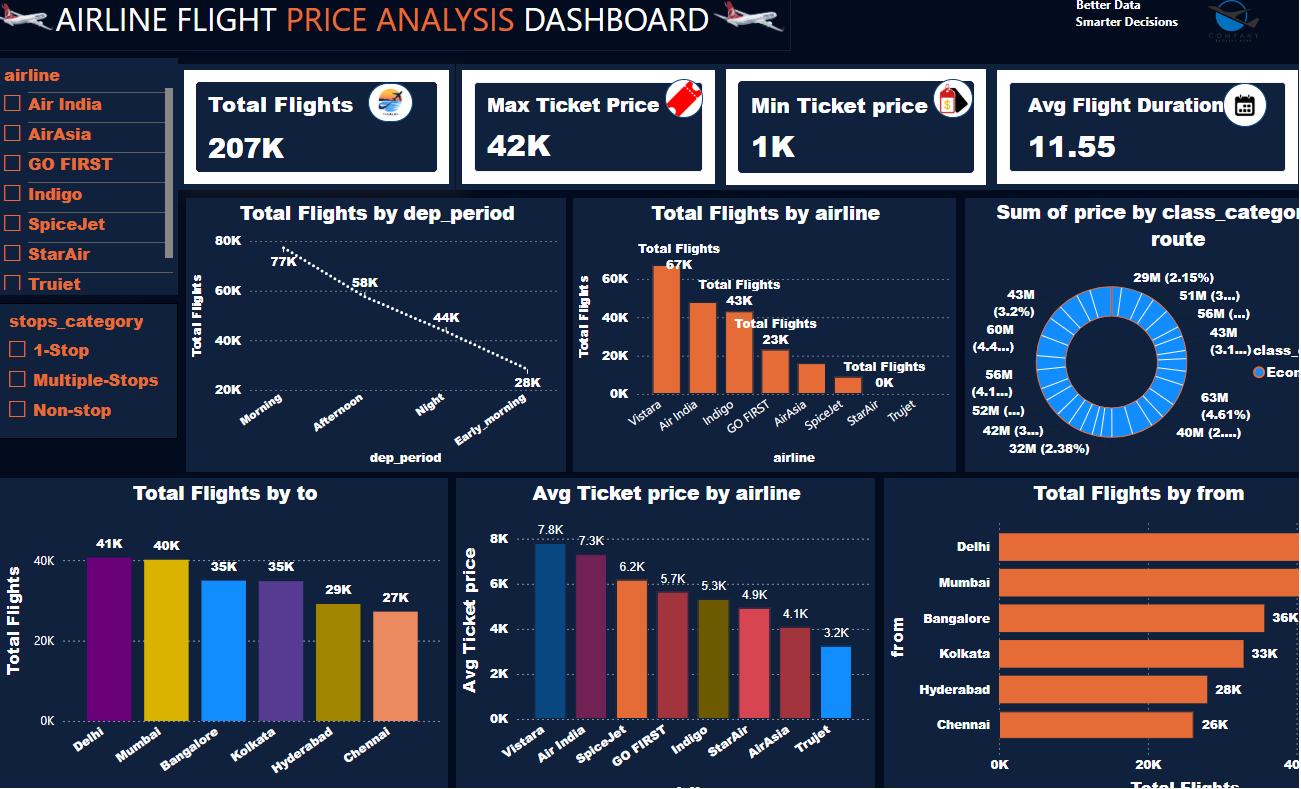

What the dashboard file says about the page in this screenshot:
{"tool":"powerbi","page":{"name":"Page 1","canvas":[1400,820],"ordinal":0},"visuals":[{"type":"textbox","box":[0,0,800,61.5],"z":0},{"type":"cardVisual","fields":{"Data":["Flight_Price.Total Flights"]},"box":[187,74,277,126],"z":1000},{"type":"cardVisual","fields":{"Data":["Flight_Price.Max Ticket Price"]},"box":[465,74,265,126],"z":2000},{"type":"cardVisual","fields":{"Data":["Flight_Price.Min Ticket price"]},"box":[730,74,270,126],"z":3000},{"type":"cardVisual","fields":{"Data":["Flight_Price.Avg Flight Duration"]},"box":[1000,74,313,126],"z":4000},{"type":"image","box":[721,0,79,51.7],"z":5000},{"type":"image","box":[0,4.9,68.3,42.9],"z":6000},{"type":"textbox","box":[1080,0,219.5,68.3],"z":7000},{"type":"image","box":[1198,0,88.8,61.5],"z":8000},{"type":"clusteredColumnChart","fields":{"Category":["Flight_Price.airline"],"Y":["Flight_Price.Total Flights"]},"box":[582.4,207.7,382.4,274.7],"z":9000},{"type":"lineChart","fields":{"Category":["Flight_Price.dep_period"],"Y":["Flight_Price.Total Flights"]},"box":[195,208,380,274],"z":10000},{"type":"clusteredColumnChart","fields":{"Category":["Flight_Price.airline"],"Y":["Flight_Price.Avg Ticket price"]},"box":[464.8,487.9,418.7,331.9],"z":11000},{"type":"barChart","fields":{"Category":["Flight_Price.from"],"Y":["Flight_Price.Total Flights"]},"box":[893.4,487.9,506.6,327.5],"z":12000},{"type":"clusteredColumnChart","fields":{"Category":["Flight_Price.to"],"Y":["Flight_Price.Total Flights"]},"box":[9,488,448,332],"z":13000},{"type":"slicer","fields":{"Values":["Flight_Price.airline"]},"box":[0,68.4,187.4,236.8],"z":14000},{"type":"slicer","fields":{"Values":["Flight_Price.stops_category"]},"box":[4,313,183,136],"z":15000},{"type":"donutChart","fields":{"Category":["Flight_Price.class_category"],"Y":["Sum(Flight_Price.price)"],"Series":["Flight_Price.route"]},"box":[973.6,207.7,426.4,274.7],"z":16000},{"type":"image","box":[377,93,45,39],"z":17000},{"type":"image","box":[1232,93,44,44],"z":18000},{"type":"image","box":[674,89,38,39],"z":19000},{"type":"image","box":[942,89,40,39],"z":20000}]}

Visuals, with their boxes on the page's 1400x820 design canvas (x1, y1, x2, y2). These are canvas units, not pixel positions in the 1301x789 screenshot, which may show the page scaled, cropped or inside an application window:
textbox: region(0, 0, 800, 62)
cardVisual - Flight_Price.Total Flights: region(187, 74, 464, 200)
cardVisual - Flight_Price.Max Ticket Price: region(465, 74, 730, 200)
cardVisual - Flight_Price.Min Ticket price: region(730, 74, 1000, 200)
cardVisual - Flight_Price.Avg Flight Duration: region(1000, 74, 1313, 200)
image: region(721, 0, 800, 52)
image: region(0, 5, 68, 48)
textbox: region(1080, 0, 1300, 68)
image: region(1198, 0, 1287, 62)
clusteredColumnChart - Flight_Price.airline x Flight_Price.Total Flights: region(582, 208, 965, 482)
lineChart - Flight_Price.dep_period x Flight_Price.Total Flights: region(195, 208, 575, 482)
clusteredColumnChart - Flight_Price.airline x Flight_Price.Avg Ticket price: region(465, 488, 884, 820)
barChart - Flight_Price.from x Flight_Price.Total Flights: region(893, 488, 1400, 815)
clusteredColumnChart - Flight_Price.to x Flight_Price.Total Flights: region(9, 488, 457, 820)
slicer - Flight_Price.airline: region(0, 68, 187, 305)
slicer - Flight_Price.stops_category: region(4, 313, 187, 449)
donutChart - Flight_Price.class_category x Sum(Flight_Price.price): region(974, 208, 1400, 482)
image: region(377, 93, 422, 132)
image: region(1232, 93, 1276, 137)
image: region(674, 89, 712, 128)
image: region(942, 89, 982, 128)
